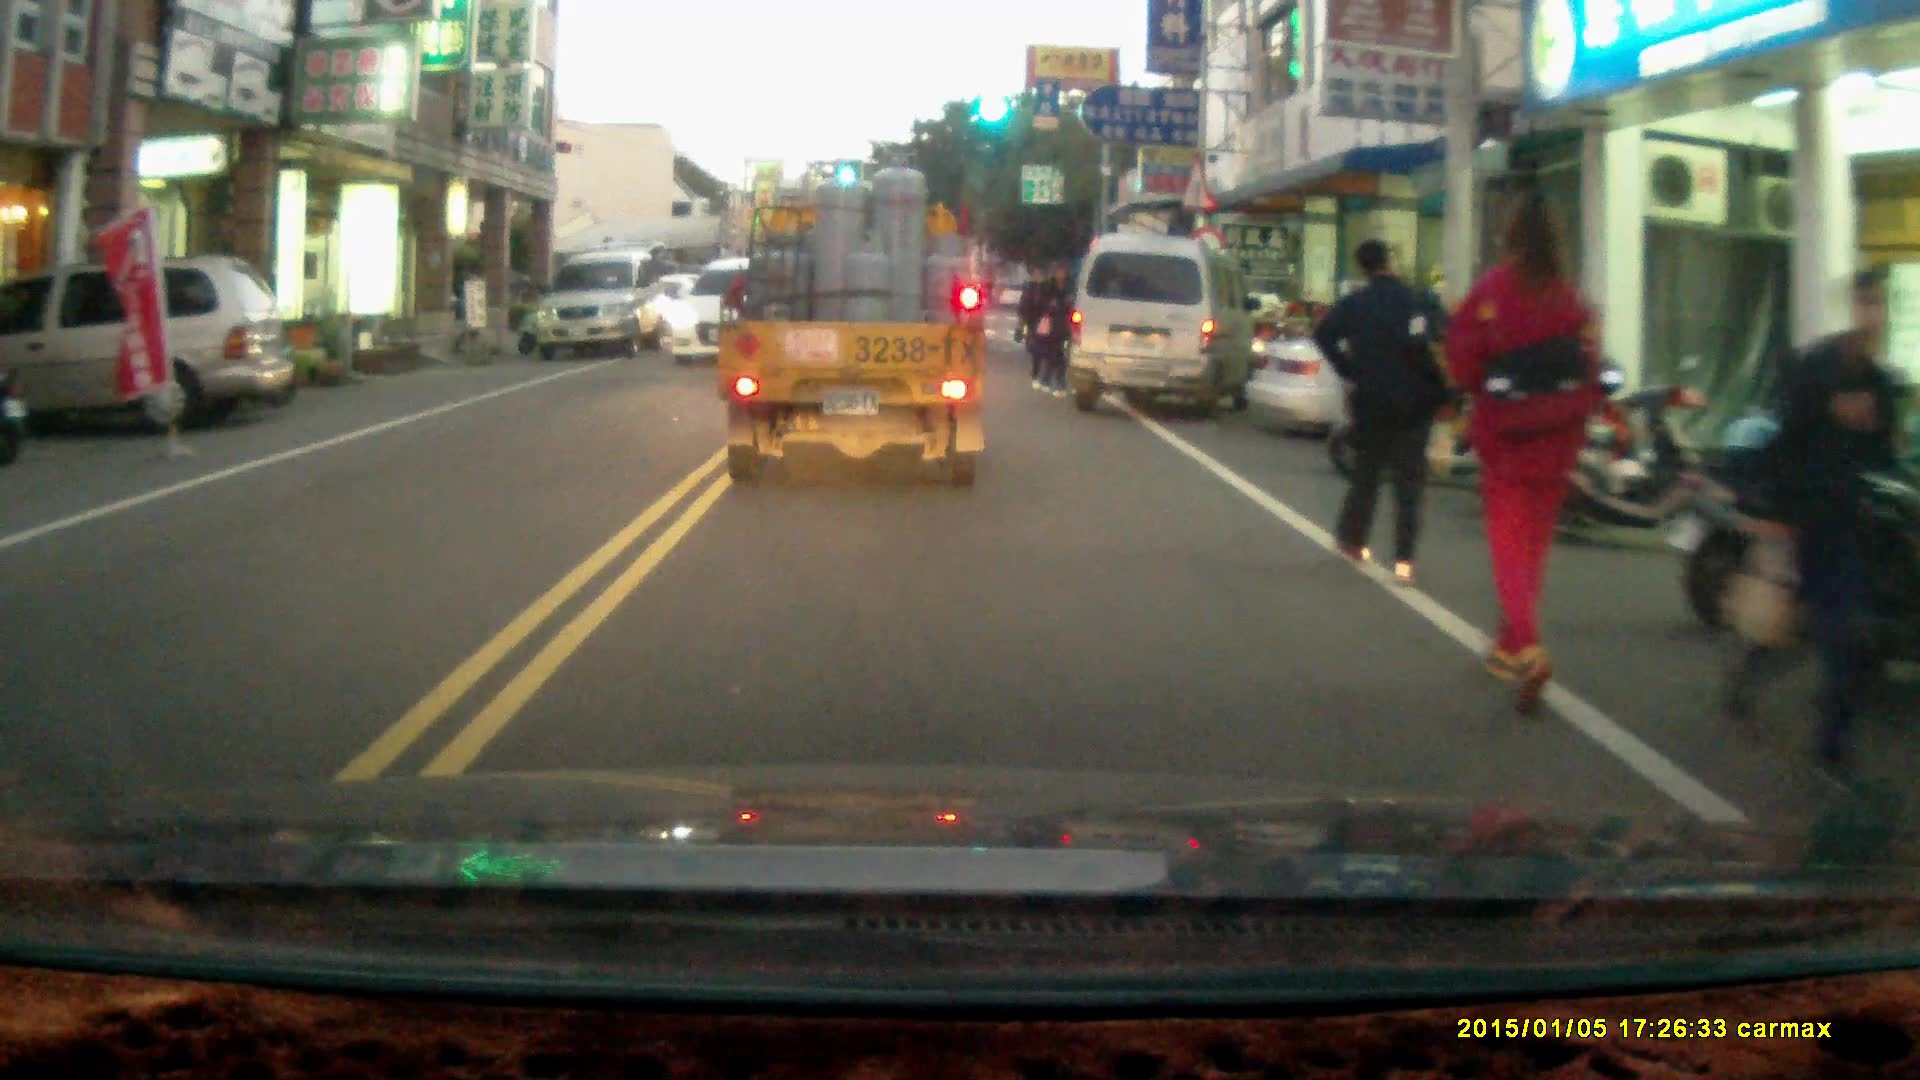pedestrian: (1723, 263, 1889, 798), (1442, 185, 1604, 718), (1311, 234, 1444, 582), (1035, 264, 1073, 401)
vehicle: (719, 172, 994, 503), (1253, 299, 1650, 458), (2, 259, 305, 443), (1071, 227, 1259, 415), (660, 253, 799, 366), (532, 251, 673, 361)
